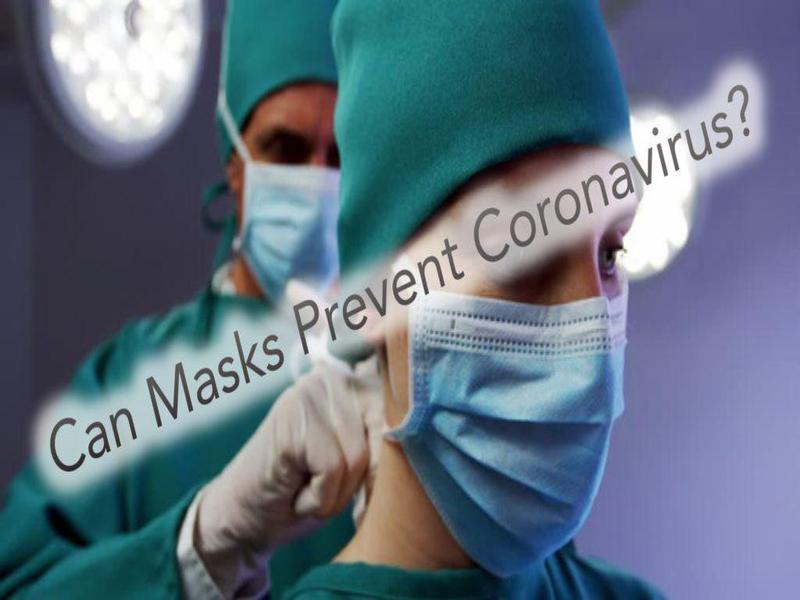with_mask: (388, 186, 635, 577), (228, 66, 344, 298)
